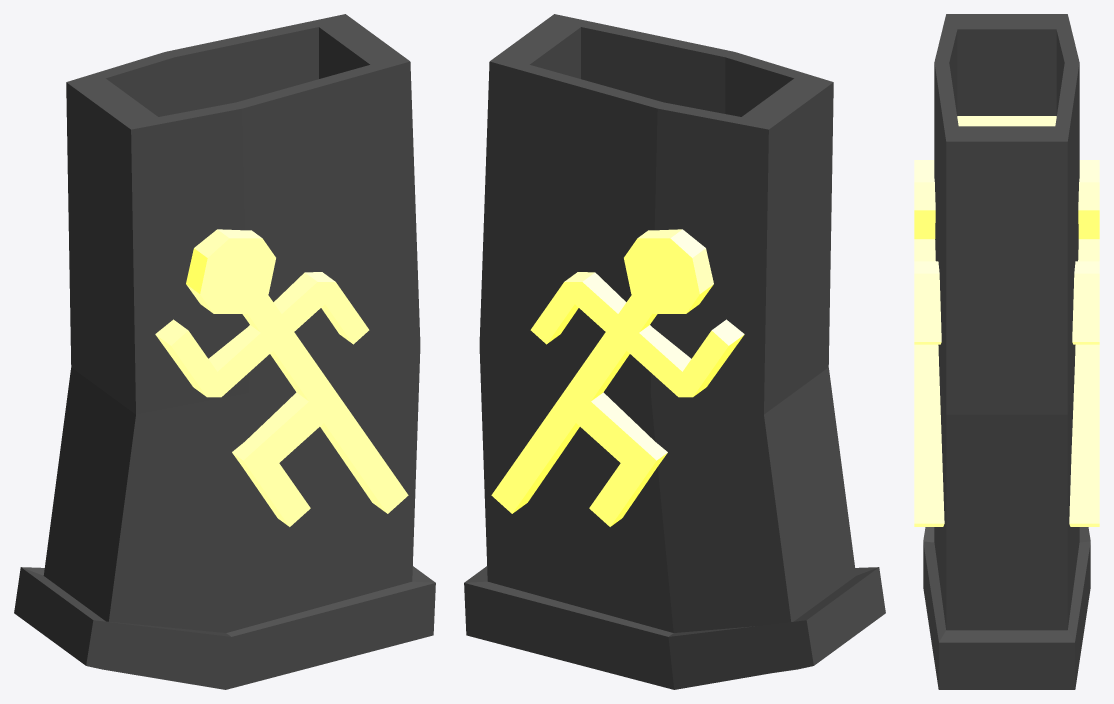
File: PantsDownUpgrade.fbx
The picture shows the model from 3 angles, left to right: view 1: azimuth 30°, elevation 25°; view 2: azimuth 150°, elevation 25°; view 3: azimuth 270°, elevation 25°; orthographic projection. The views are drawn at different scales.
Parts seen in each view (by area): view 1: Cube, Cube.001; view 2: Cube, Cube.001; view 3: Cube, Cube.001.
Boxes of the visible parts, bbox=[...] form: Cube: bbox=[14, 14, 435, 689]; Cube.001: bbox=[155, 229, 408, 526]; Cube: bbox=[464, 14, 885, 689]; Cube.001: bbox=[491, 229, 744, 526]; Cube: bbox=[923, 14, 1090, 689]; Cube.001: bbox=[914, 160, 1099, 526].
Size of the model in its own units: 128 by 201 by 62.72.
